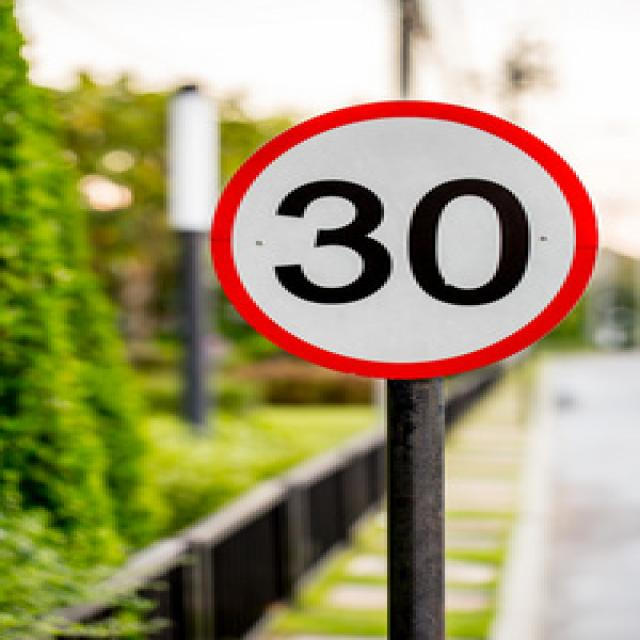speed limit 30: (211, 105, 602, 382)
